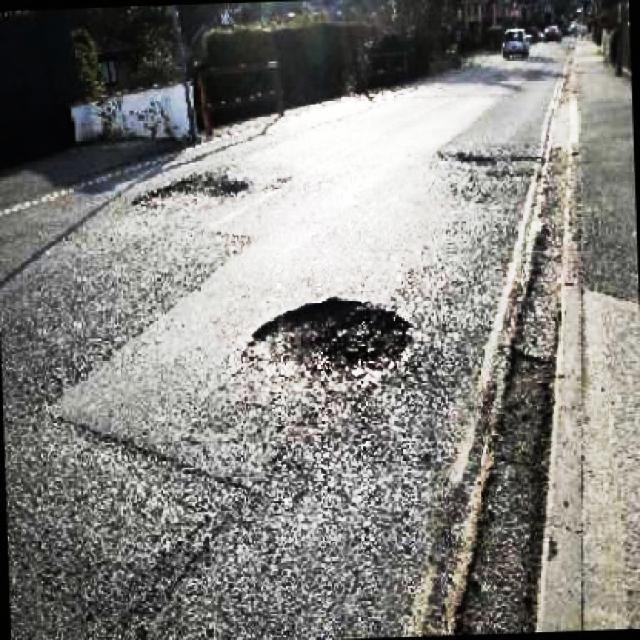pothole: (240, 291, 418, 392), (128, 172, 248, 211)
